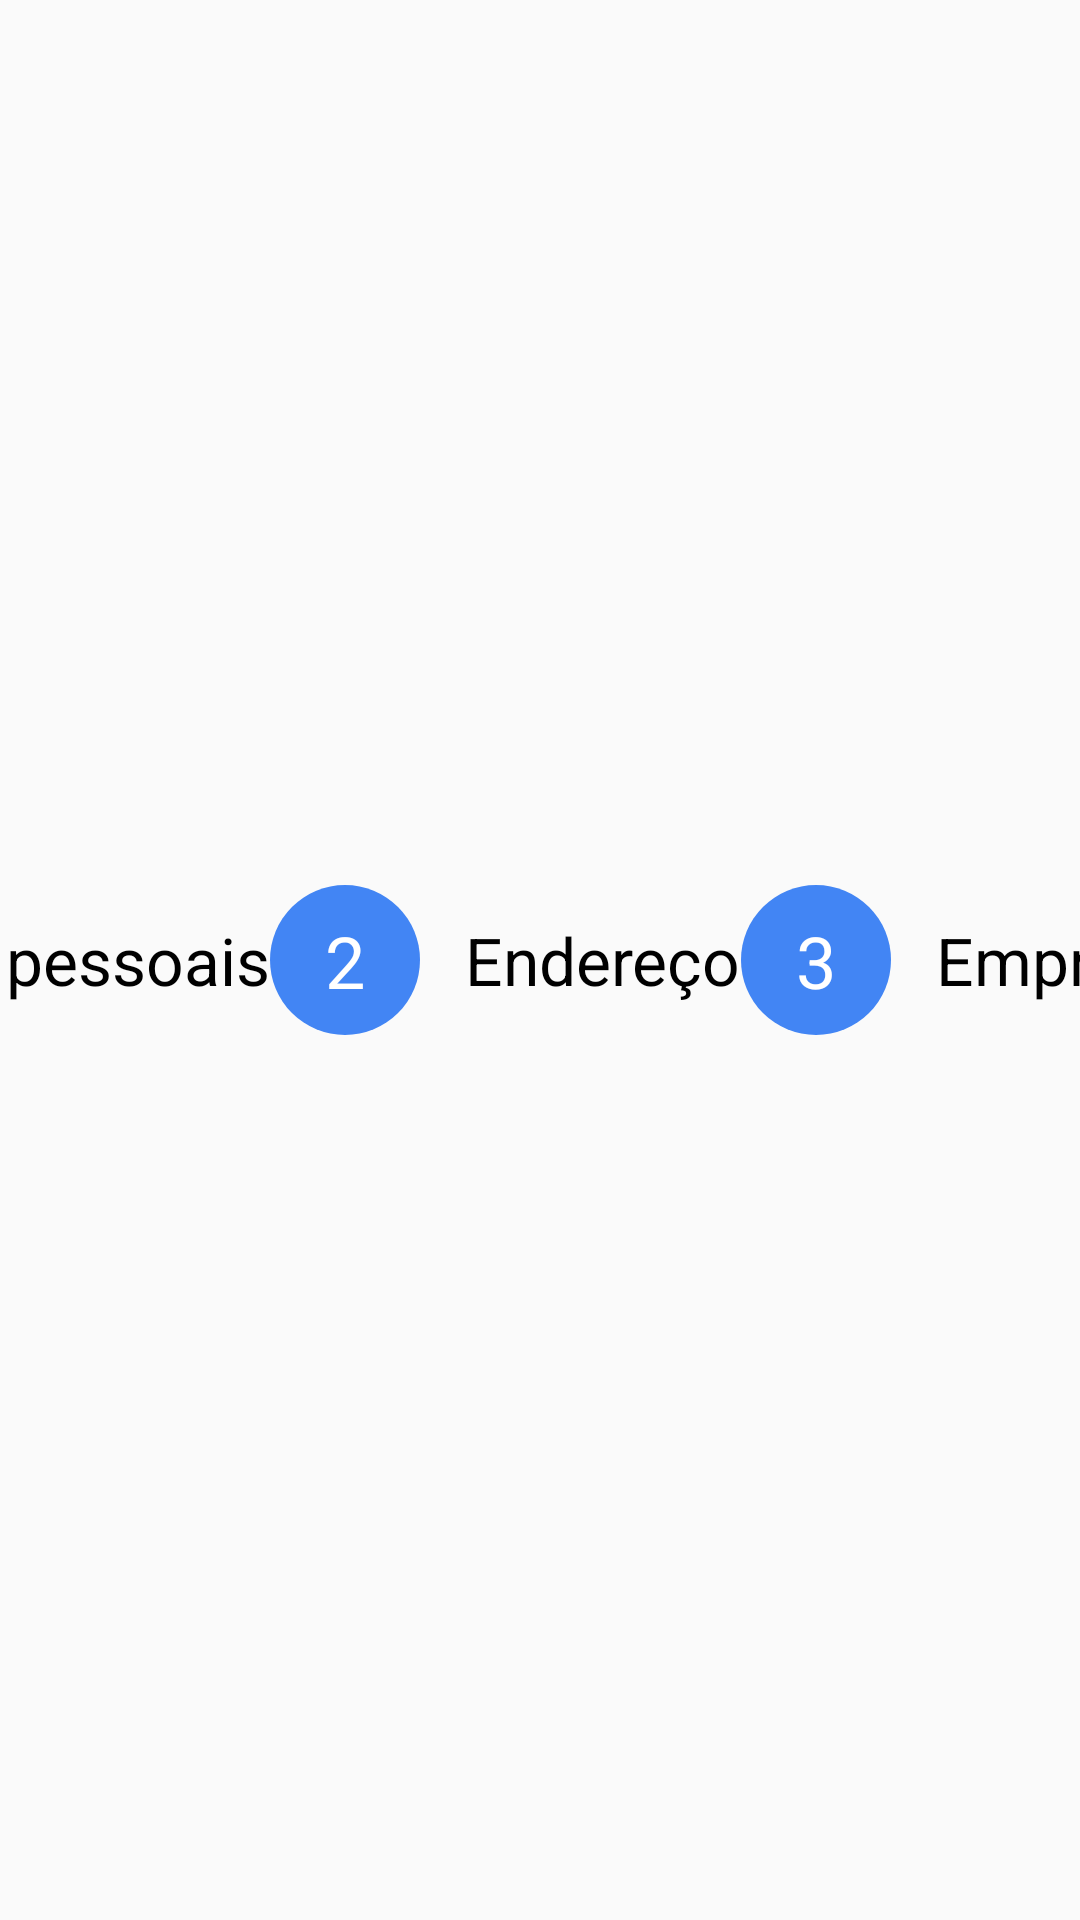

Point at icon controls on the screen. Image size 1080w x 1920h, points as (x=x, y=y).
circle: (x=345, y=960), (x=816, y=960)
